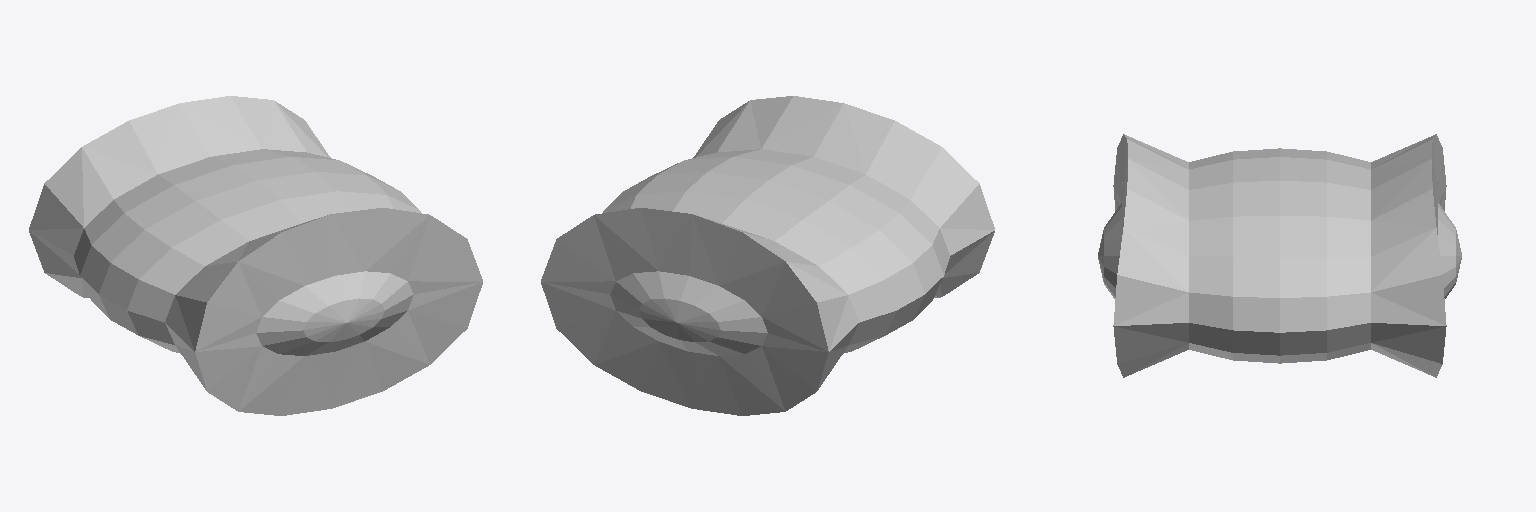
File: ballmorph3.obj
The picture shows the model from 3 angles: view 1: azimuth 30°, elevation 25°; view 2: azimuth 150°, elevation 25°; view 3: azimuth 270°, elevation 25°; orthographic projection.
Visible parts, largest first — view 1: sphere2; view 2: sphere2; view 3: sphere2.
Part boxes in pixels (x1,y1,x2,y2): sphere2: (29,96,482,415); sphere2: (541,96,994,415); sphere2: (1098,134,1461,377).
Size of the model in its own units: 1.65 by 0.976 by 1.66.